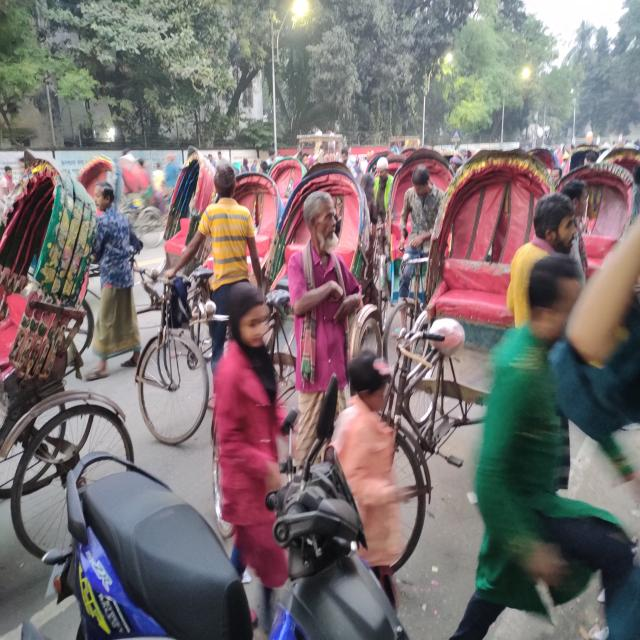rikshaw: (414, 156, 546, 482)
